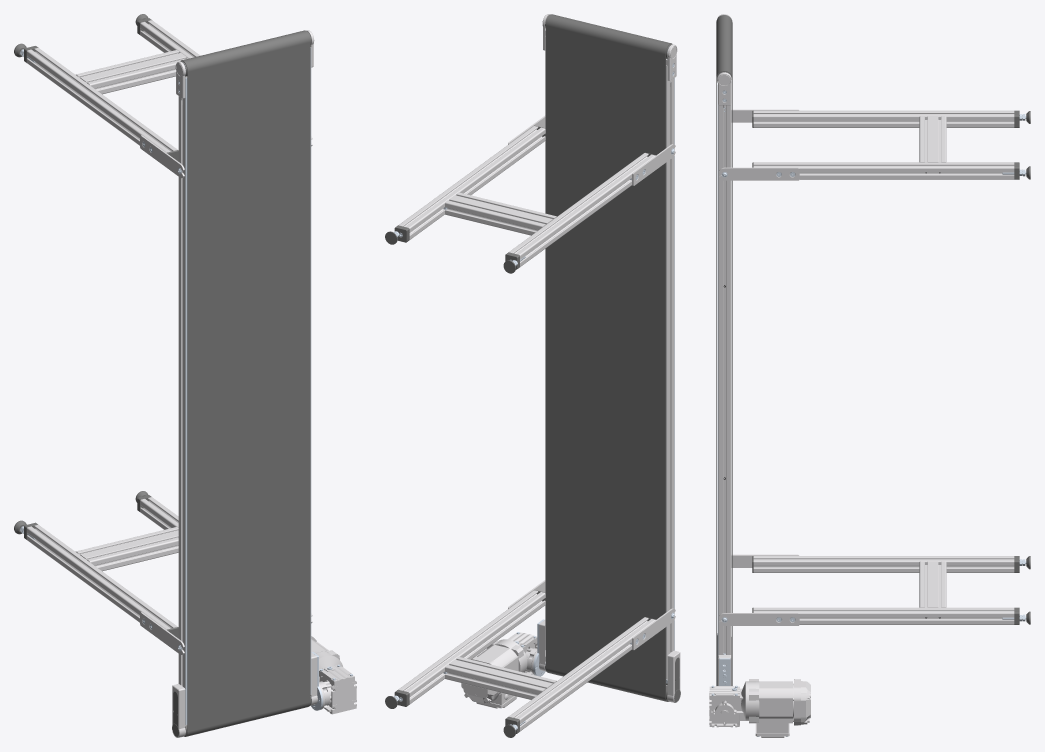
Rendered from belt_conveyor_.glb.
3 renders of one model, left to right at view 1: azimuth 30°, elevation 25°; view 2: azimuth 150°, elevation 25°; view 3: azimuth 270°, elevation 25°, orthographic. The views are drawn at different scales.
Visible parts, largest first — view 1: item_0070644_Transportband PVC, staufähig -400_A=2000_1-1, item_2050fada0a314c7f92e95b6c2d77c2c31(2), item_0070544_Motor AC D16-180W-i6_1-1, item_0070272_Antriebsbeschlagsatz 8 40_A=0_EL=1_A=1_1-1, item_0071639_Schwenkplattensatz 8 40_7-1, item_0071639_Schwenkplattensatz 8 40_3-1; view 2: item_0070644_Transportband PVC, staufähig -400_A=2000_1-1, item_2050fada0a314c7f92e95b6c2d77c2c31(2), item_0070544_Motor AC D16-180W-i6_1-1, item_0070272_Antriebsbeschlagsatz 8 40_A=0_EL=1_A=1_1-1, item_0071639_Schwenkplattensatz 8 40_3-1, item_0071639_Schwenkplattensatz 8 40_7-1; view 3: item_2050fada0a314c7f92e95b6c2d77c2c31(2), item_0070544_Motor AC D16-180W-i6_1-1, item_0070644_Transportband PVC, staufähig -400_A=2000_1-1, item_0071639_Schwenkplattensatz 8 40_5-1, item_0071639_Schwenkplattensatz 8 40_1-1.
Boxes of the visible parts, x1=… form: item_0070644_Transportband PVC, staufähig -400_A=2000_1-1: x1=180, y1=30, x2=310, y2=736; item_2050fada0a314c7f92e95b6c2d77c2c31(2): x1=26, y1=20, x2=311, y2=724; item_0070544_Motor AC D16-180W-i6_1-1: x1=311, y1=636, x2=356, y2=714; item_0070272_Antriebsbeschlagsatz 8 40_A=0_EL=1_A=1_1-1: x1=172, y1=652, x2=317, y2=737; item_0071639_Schwenkplattensatz 8 40_7-1: x1=140, y1=135, x2=184, y2=178; item_0071639_Schwenkplattensatz 8 40_3-1: x1=140, y1=612, x2=184, y2=654; item_0070644_Transportband PVC, staufähig -400_A=2000_1-1: x1=546, y1=14, x2=672, y2=701; item_2050fada0a314c7f92e95b6c2d77c2c31(2): x1=398, y1=36, x2=674, y2=731; item_0070544_Motor AC D16-180W-i6_1-1: x1=461, y1=632, x2=537, y2=708; item_0070272_Antriebsbeschlagsatz 8 40_A=0_EL=1_A=1_1-1: x1=539, y1=620, x2=680, y2=702; item_0071639_Schwenkplattensatz 8 40_3-1: x1=630, y1=608, x2=675, y2=649; item_0071639_Schwenkplattensatz 8 40_7-1: x1=630, y1=144, x2=675, y2=185; item_2050fada0a314c7f92e95b6c2d77c2c31(2): x1=717, y1=83, x2=1014, y2=685; item_0070544_Motor AC D16-180W-i6_1-1: x1=709, y1=679, x2=810, y2=737; item_0070644_Transportband PVC, staufähig -400_A=2000_1-1: x1=716, y1=15, x2=732, y2=685; item_0071639_Schwenkplattensatz 8 40_5-1: x1=719, y1=167, x2=799, y2=180; item_0071639_Schwenkplattensatz 8 40_1-1: x1=719, y1=613, x2=799, y2=625.
Bounding box in the file's own units: 0.5699 × 2.1 × 0.945.
